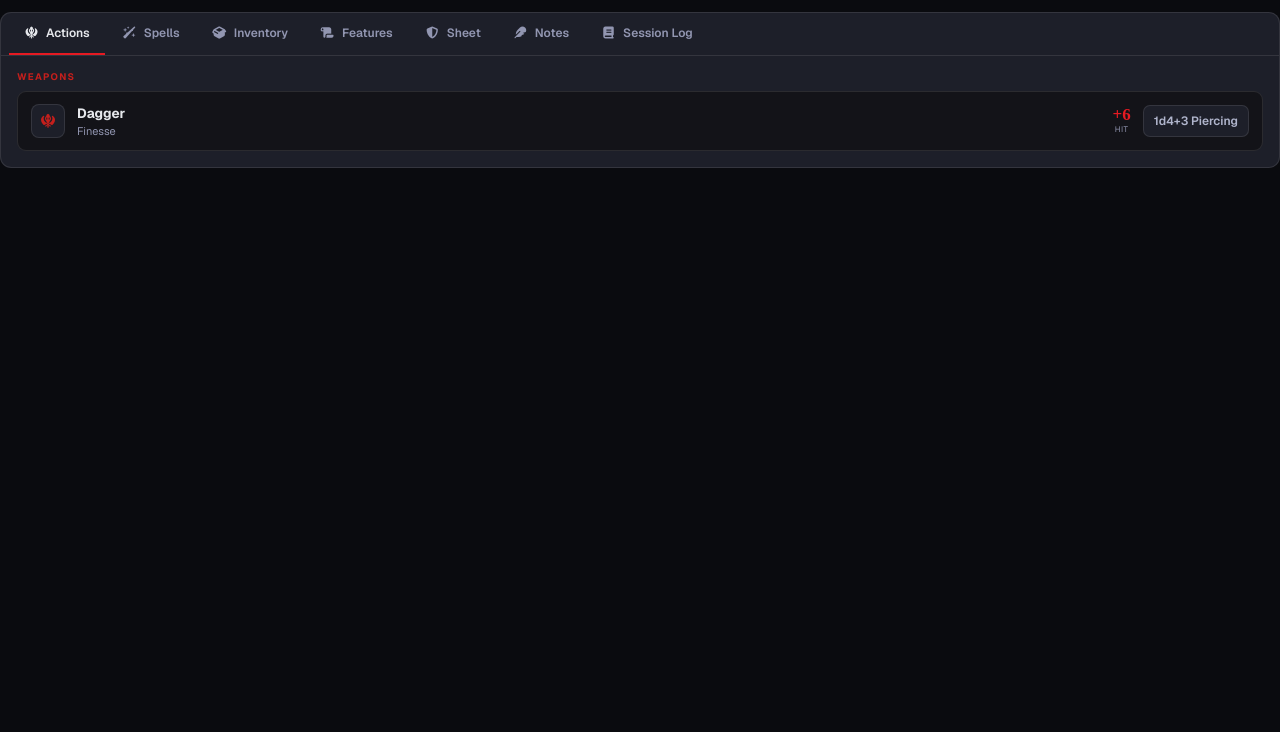
Test: ContentTabs › groups and deduplicates spells with identical fixed columns for every present level
This screenshot has width=1280, height=732.
Click the tab "Spells" at (151, 34), box x1=107 y1=13 x2=195 y2=55
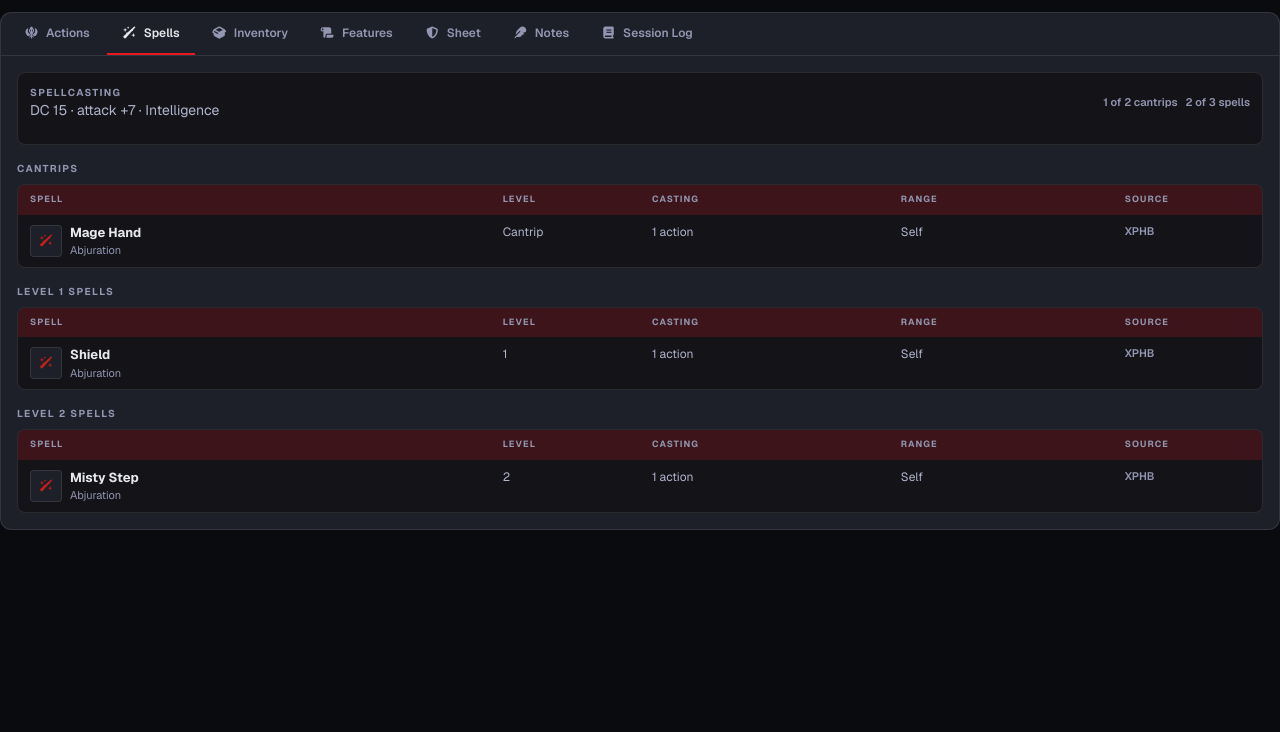
Expected: the heading "Cantrips" is shown, x1=17 y1=162 x2=78 y2=175
Expected: the heading "Level 1 Spells" is shown, x1=17 y1=284 x2=114 y2=298
Expected: the heading "Level 2 Spells" is shown, x1=17 y1=407 x2=116 y2=420
